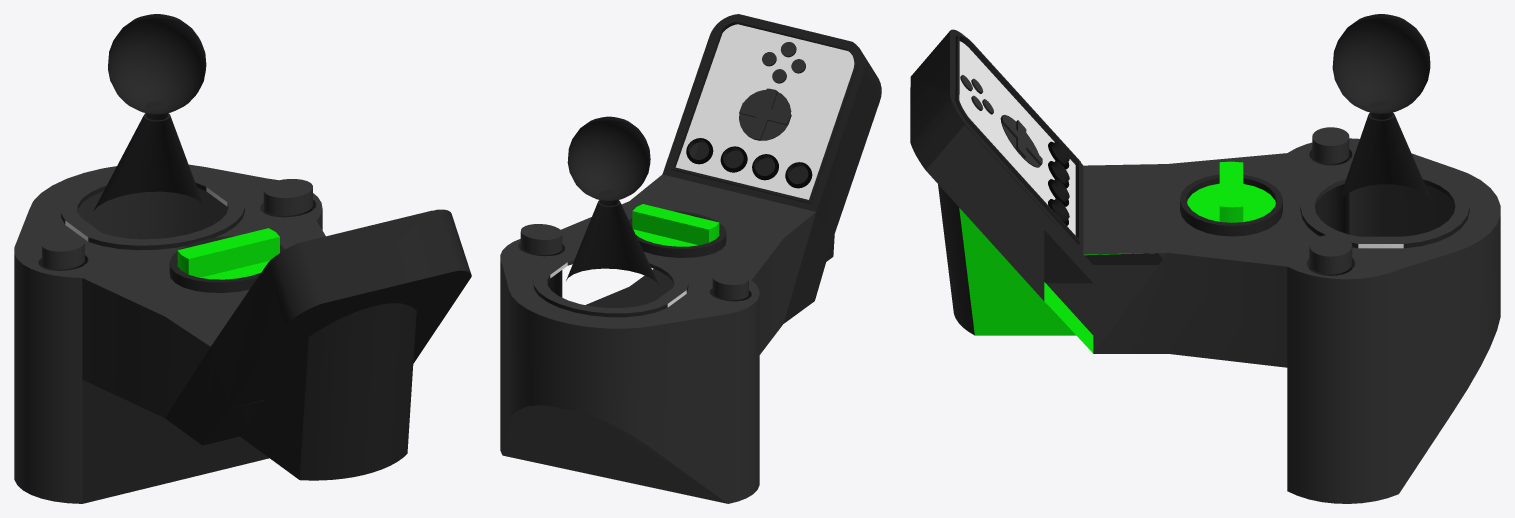
3 renders of one model, left to right at view 1: azimuth 30°, elevation 25°; view 2: azimuth 150°, elevation 25°; view 3: azimuth 270°, elevation 25°, orthographic. The views are drawn at different scales.
Visible parts, largest first — view 1: Barres_001, Group_001; view 2: Barres_001, Group_001; view 3: Barres_001, Group_001.
Boxes of the visible parts, box(x1,y1,x2,y2) form: Barres_001: box(14, 14, 471, 503); Group_001: box(169, 228, 285, 292); Barres_001: box(500, 14, 881, 503); Group_001: box(629, 204, 726, 257); Barres_001: box(910, 14, 1500, 503); Group_001: box(1180, 161, 1282, 236).
Size of the model in its own units: 6.1 by 8.43 by 10.78.
